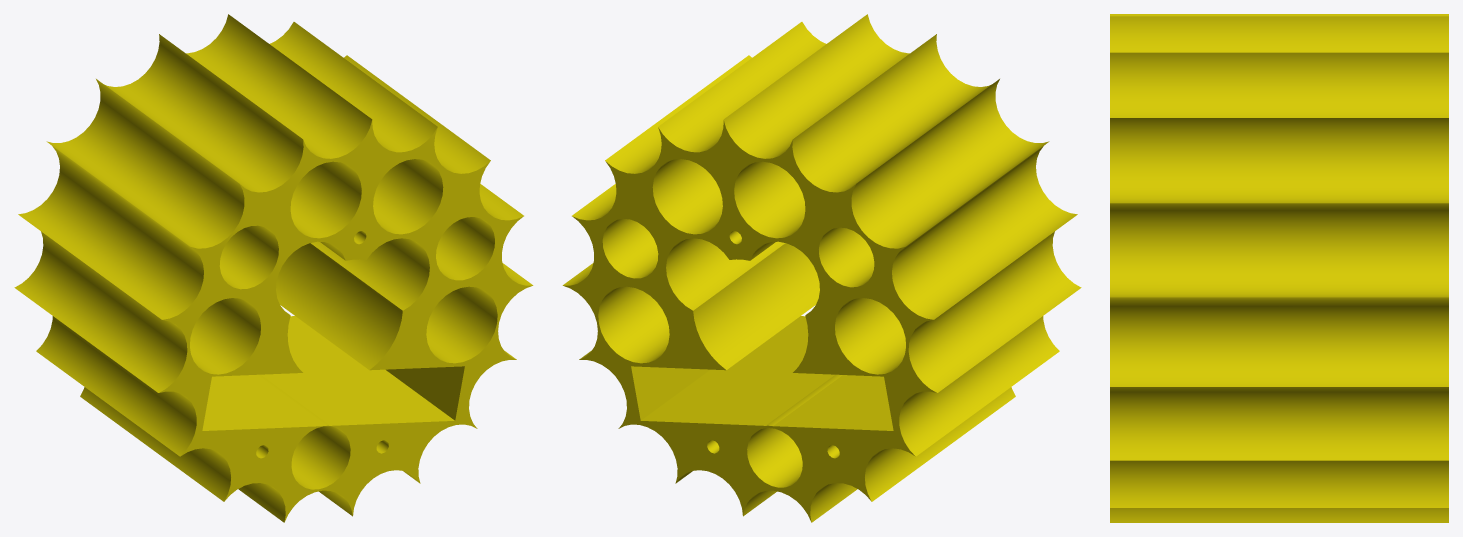
The model's file is body10_visual.obj.
3 renders of one model, left to right at view 1: azimuth 30°, elevation 25°; view 2: azimuth 150°, elevation 25°; view 3: azimuth 270°, elevation 25°, orthographic. The views are drawn at different scales.
Visible parts, largest first — view 1: Body10; view 2: Body10; view 3: Body10.
Boxes of the visible parts, left/top/right/bottom form: Body10: left=14, top=14, right=533, bottom=522; Body10: left=562, top=14, right=1081, bottom=522; Body10: left=1110, top=14, right=1448, bottom=522.
Size of the model in its own units: 9.62 by 9.62 by 6.4.
